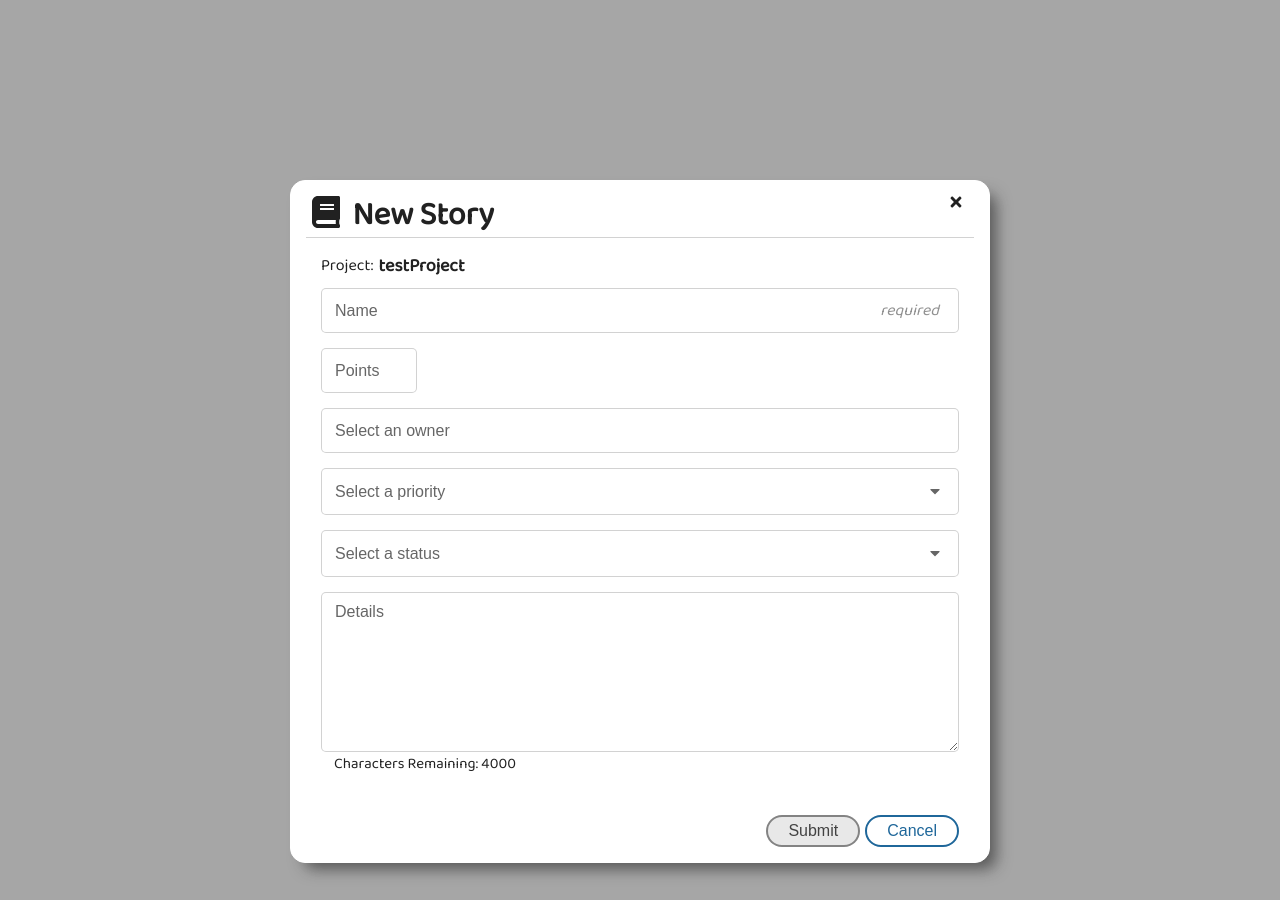
Test: <StoryModal /> › should enable the submit button if there is name input
Expected: the button with test id "storyModal.actions.primaryButton" is disabled, [766,815,860,847]
Type "some value" into the field with test id "nameInput.input". click: (640, 310)
box: [321,288,959,333]
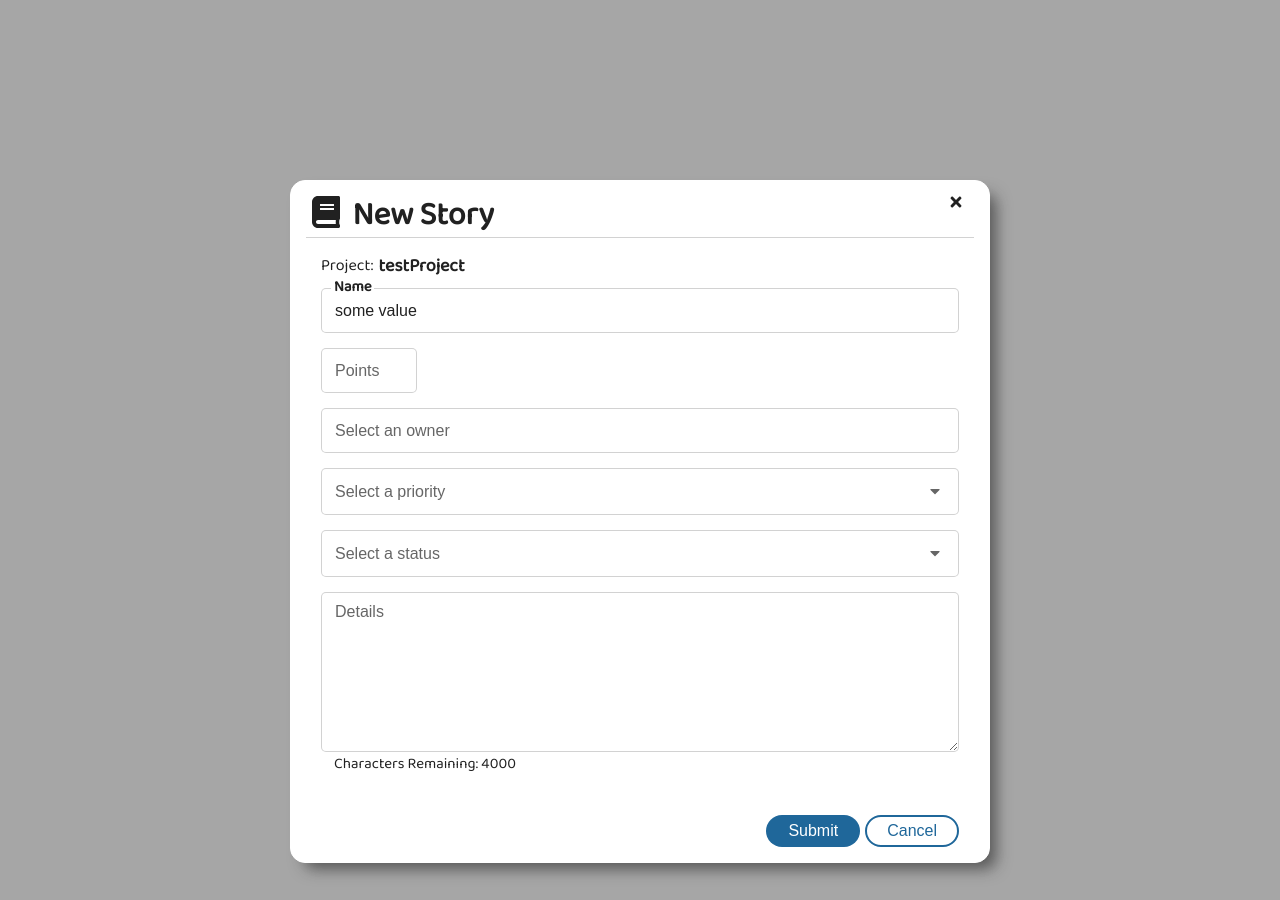
Expected: the button with test id "storyModal.actions.primaryButton" is enabled, [766,815,860,847]
